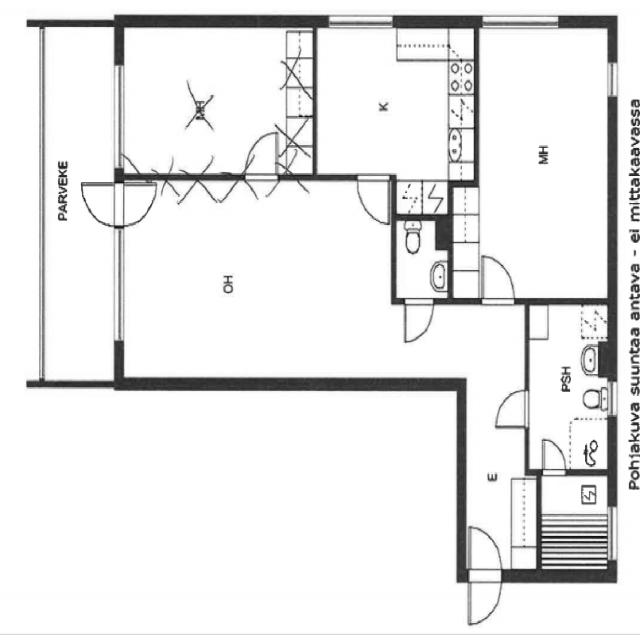door: (462, 522, 506, 629), (77, 178, 152, 228), (240, 126, 287, 192), (489, 383, 535, 436), (477, 250, 519, 308), (352, 170, 394, 228), (118, 176, 160, 227), (399, 296, 437, 345), (537, 433, 570, 478)
window: (107, 55, 128, 172), (108, 228, 128, 347), (481, 8, 565, 32), (324, 8, 399, 32), (603, 502, 622, 565), (603, 374, 622, 421), (604, 56, 623, 100)
zone: (116, 176, 386, 386), (468, 20, 613, 302), (109, 25, 315, 179), (313, 26, 475, 181), (526, 301, 614, 477), (538, 470, 613, 575), (393, 217, 449, 301)
